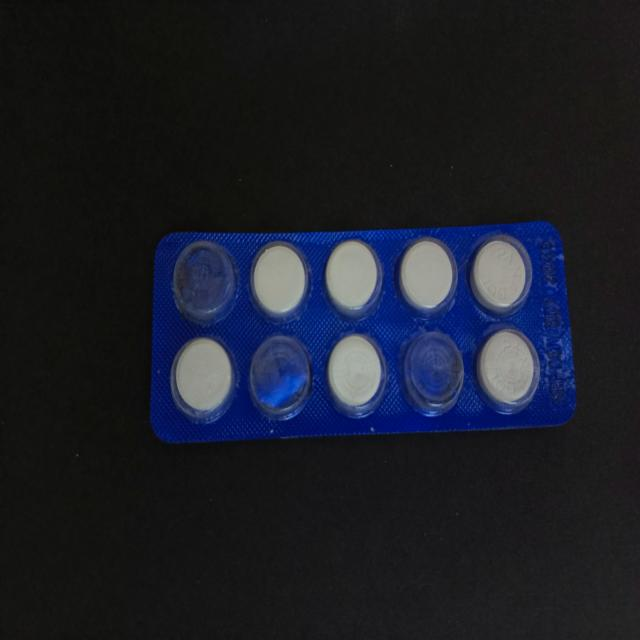defect: (168, 235, 239, 330), (398, 328, 468, 422), (247, 331, 315, 426)
